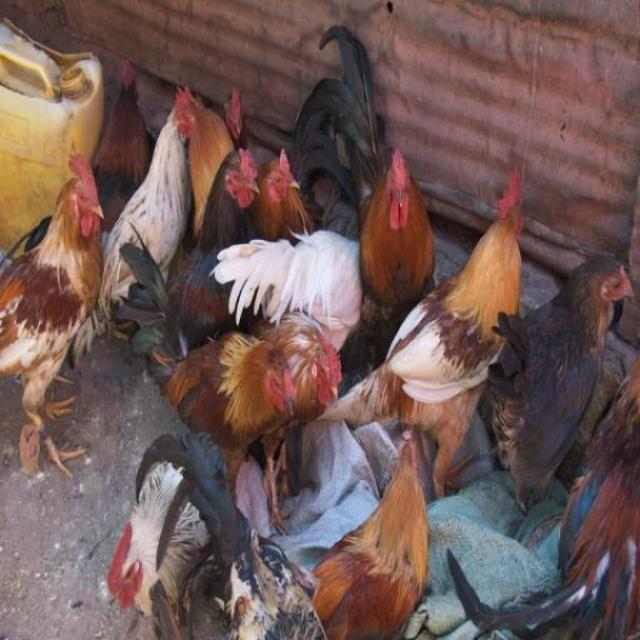Chicken: (281, 36, 426, 336), (122, 273, 292, 481), (1, 169, 108, 479), (496, 250, 628, 483), (340, 57, 444, 306), (571, 352, 640, 640), (106, 451, 216, 623), (434, 155, 534, 344), (356, 411, 431, 607), (232, 231, 386, 326), (171, 76, 228, 262), (152, 90, 201, 245), (105, 57, 150, 212), (204, 145, 260, 248), (293, 309, 343, 416), (262, 155, 304, 241), (218, 90, 248, 150)
